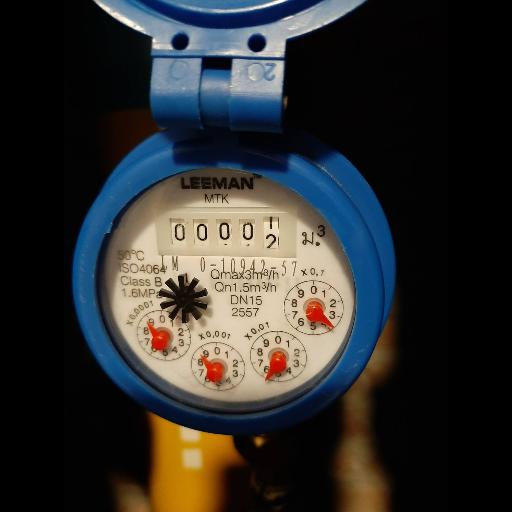0: (193, 218, 210, 247), (216, 218, 233, 247), (171, 218, 187, 246), (240, 218, 256, 246)
1: (262, 214, 280, 251)
border_water_meter_number: (155, 208, 297, 259)
